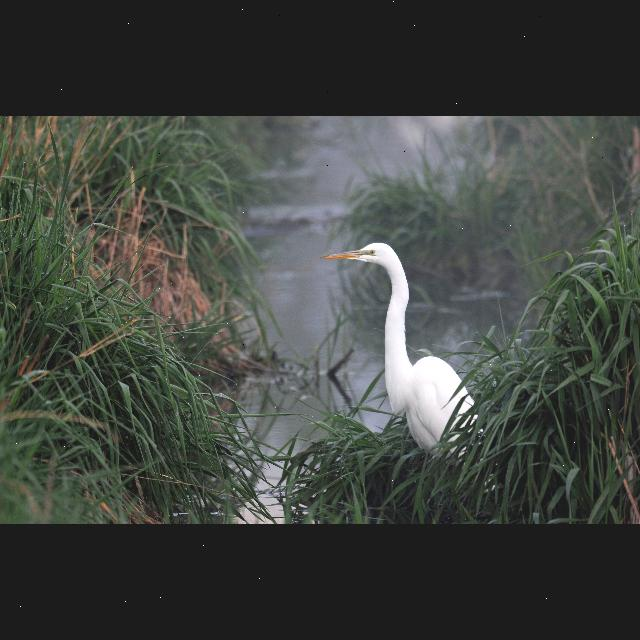egret: (316, 237, 498, 461)
